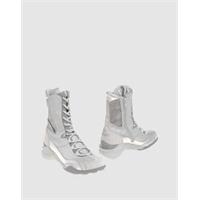shoe: (42, 87, 105, 176), (99, 84, 158, 159)
